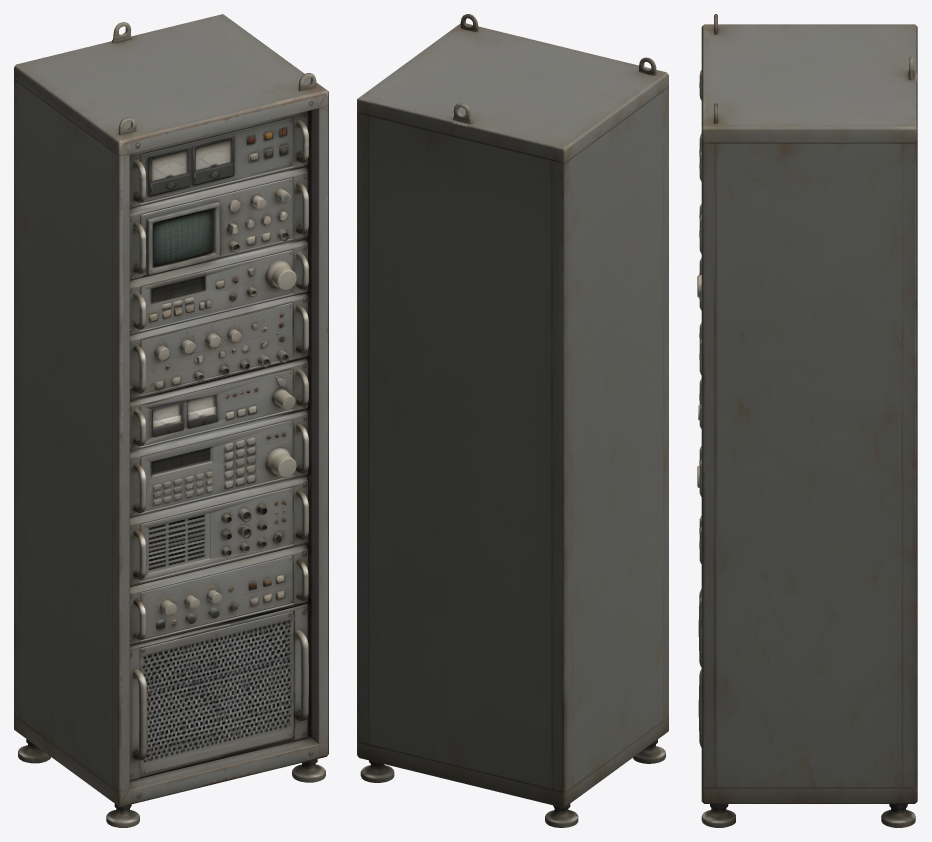
Rendered from SM_Electronic_Rack.fbx.
3 views of the same model, side by side, from view 1: azimuth 30°, elevation 25°; view 2: azimuth 150°, elevation 25°; view 3: azimuth 270°, elevation 25° (orthographic). The views are drawn at different scales.
Parts seen in each view (by area): view 1: SM_Electronic_Rack; view 2: SM_Electronic_Rack; view 3: SM_Electronic_Rack.
Boxes of the visible parts, x1=… form: SM_Electronic_Rack: x1=14, y1=14, x2=328, y2=827; SM_Electronic_Rack: x1=357, y1=14, x2=668, y2=827; SM_Electronic_Rack: x1=697, y1=14, x2=917, y2=827.
Bounding box in the file's own units: 0.6377 × 2 × 0.5557.
Materials: 1 (1 with a texture image).
